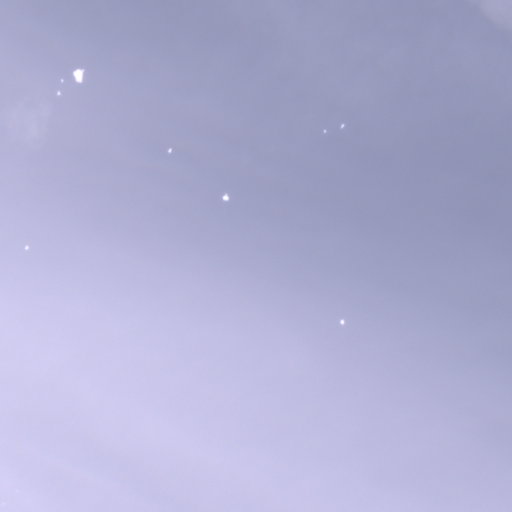Iceberg: (73, 69, 84, 82), (222, 193, 228, 200), (340, 319, 344, 324), (341, 123, 344, 128), (168, 148, 171, 152), (25, 245, 28, 249), (57, 91, 60, 94), (323, 129, 326, 132), (61, 79, 62, 81)
